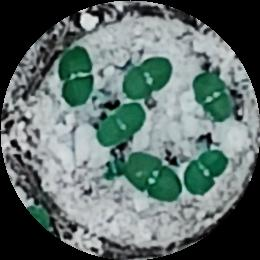Basil: (129, 154, 180, 202), (191, 73, 234, 125), (120, 56, 170, 99), (97, 102, 142, 146), (58, 51, 96, 103), (187, 149, 225, 194)
